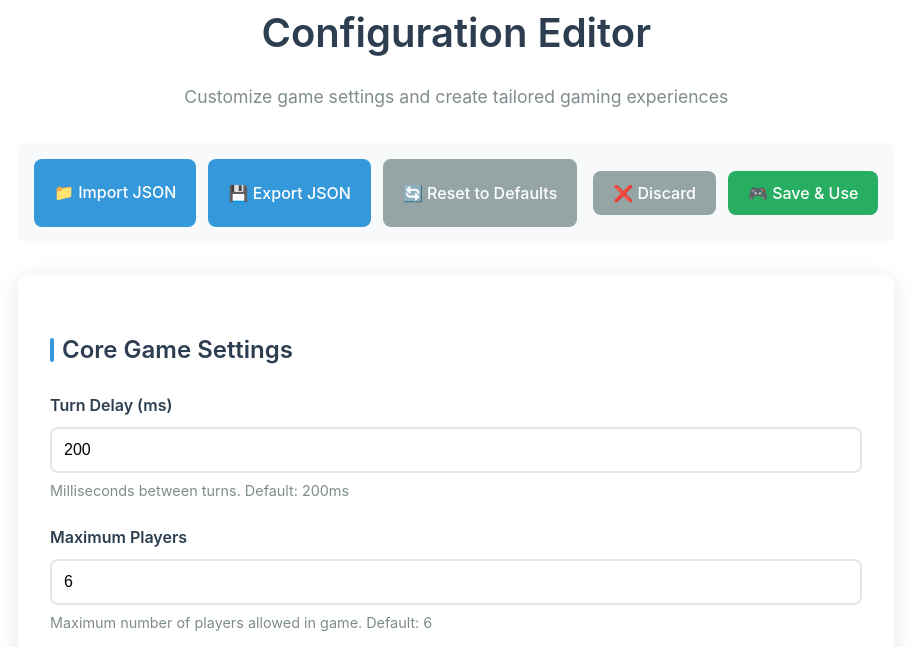
it: ConfigEditor › validation › should show validation errors for invalid values
# Try to set an invalid turn delay (negative)
Replace the text in the number field labelled "Turn Delay (ms)" with "-100". click: [456, 450]
box: x1=50 y1=427 x2=862 y2=473
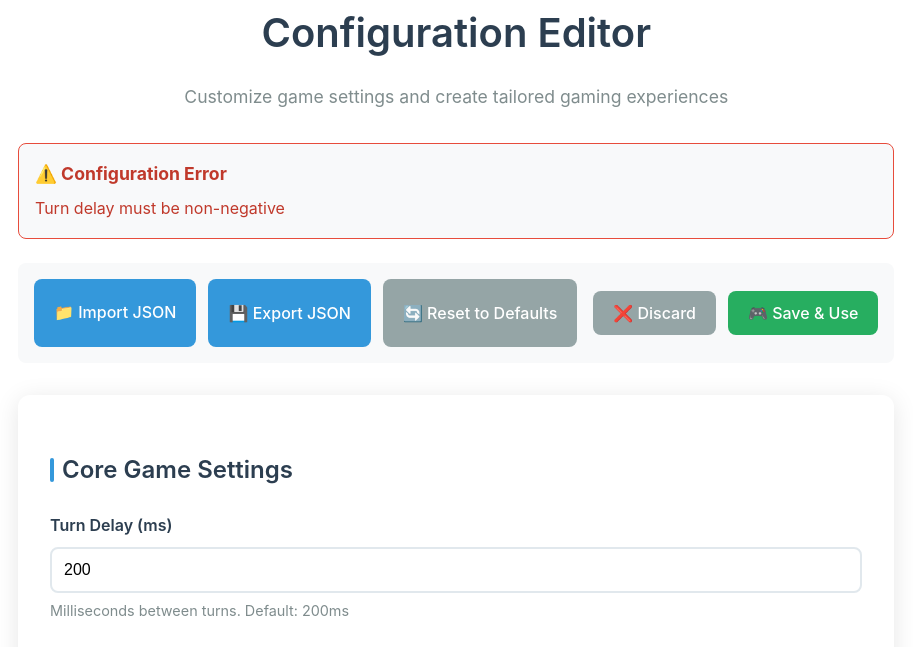
Check: the text "Turn delay must be non-negative" is shown, box x1=35 y1=198 x2=285 y2=218
